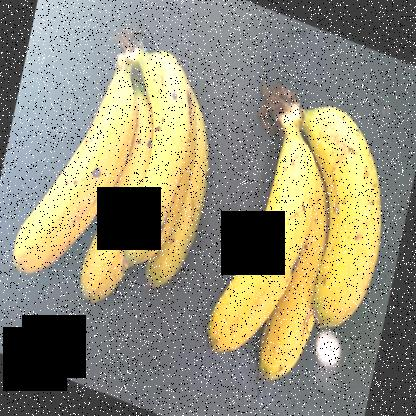ripe: (1, 63, 130, 280), (209, 127, 323, 352), (306, 84, 390, 339), (124, 54, 212, 260)
